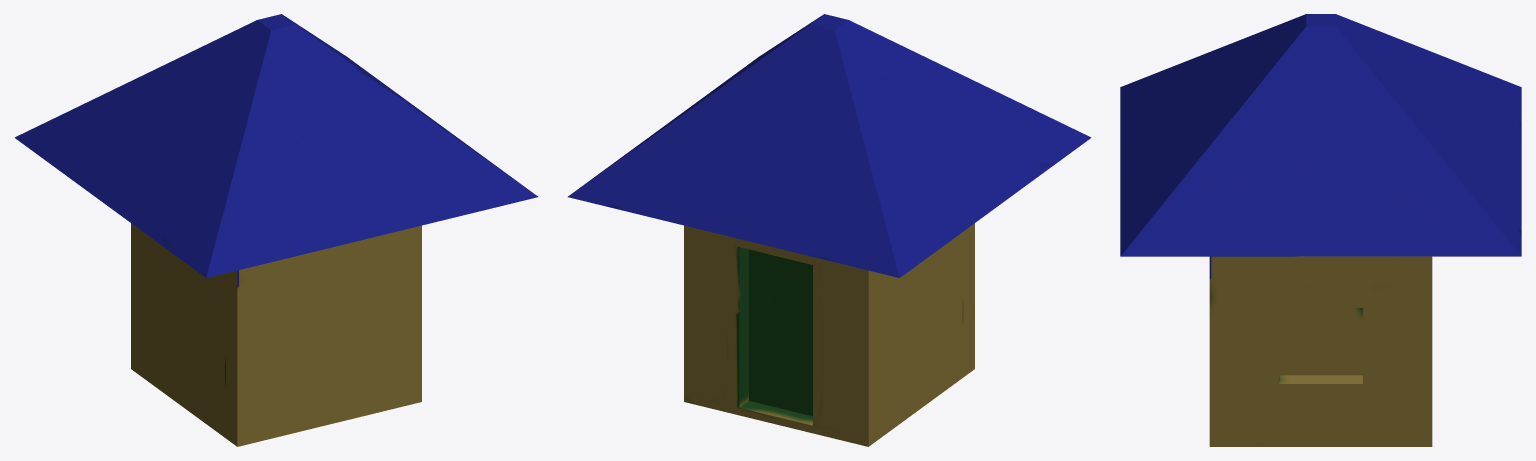
Rendered from house.obj.
3 renders of one model, left to right at view 1: azimuth 30°, elevation 25°; view 2: azimuth 150°, elevation 25°; view 3: azimuth 270°, elevation 25°, orthographic. The views are drawn at different scales.
Parts seen in each view (by area): view 1: Cube; view 2: Cube; view 3: Cube.
Part boxes in pixels (x1,y1,x2,y2): Cube: [14, 14, 537, 446]; Cube: [568, 14, 1091, 446]; Cube: [1120, 14, 1521, 446].
Size of the model in its own units: 3.6 by 3.76 by 3.6.
